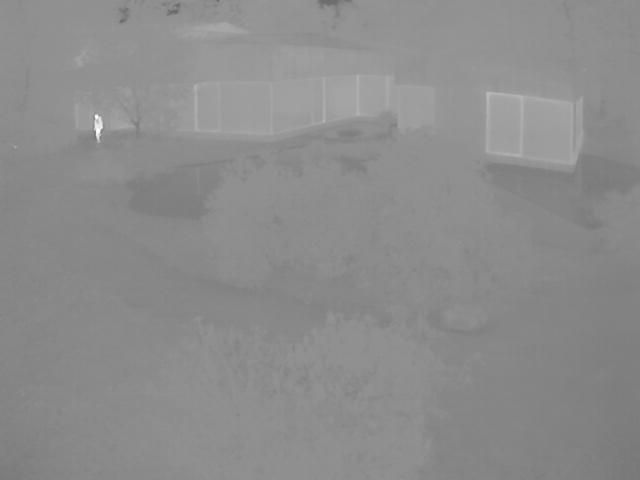person: (92, 113, 105, 142)
